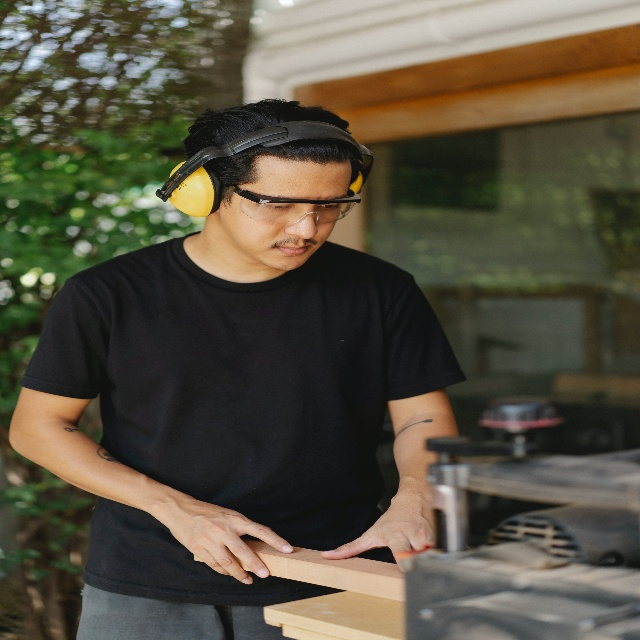Gafas: (227, 186, 360, 220)
Sin_guantes: (163, 493, 293, 585), (321, 490, 439, 572)
